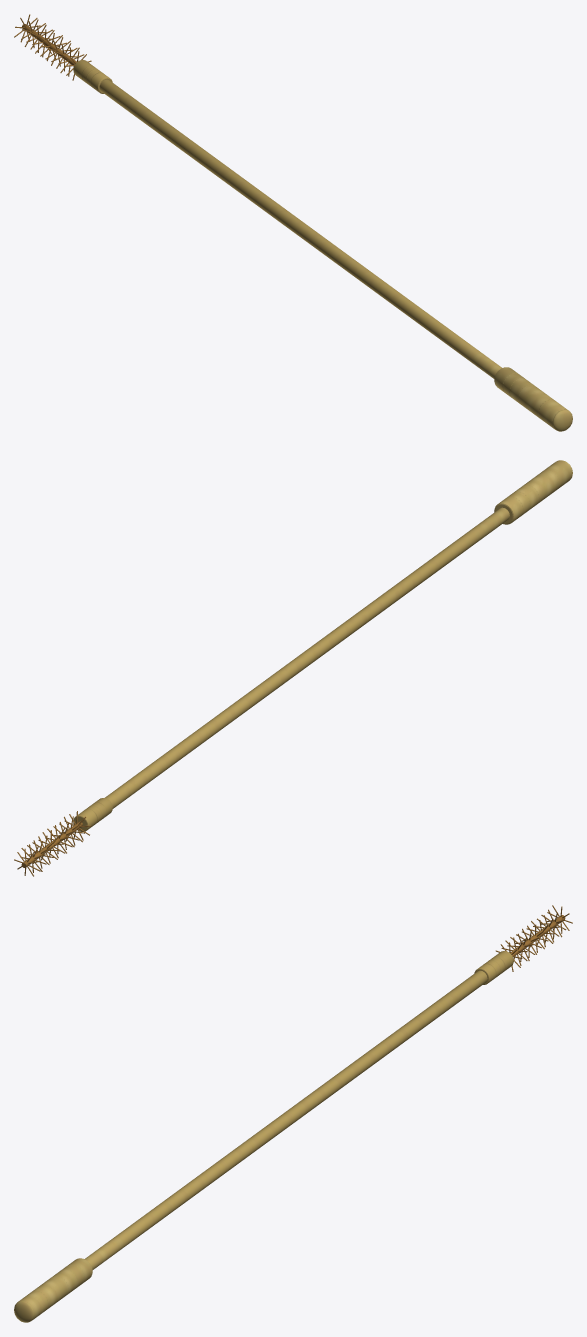
The model's file is rod.glb.
3 views of the same model, one above another, from view 1: azimuth 30°, elevation 25°; view 2: azimuth 150°, elevation 25°; view 3: azimuth 330°, elevation 25° (orthographic).
Visible parts, largest first — view 1: GEO-rod-Tool_Brass, GEO-rod-Tool_Bronze; view 2: GEO-rod-Tool_Brass, GEO-rod-Tool_Bronze; view 3: GEO-rod-Tool_Brass, GEO-rod-Tool_Bronze.
Boxes of the visible parts, x1,y1,x2,y2 form: GEO-rod-Tool_Brass: (73, 60, 572, 431); GEO-rod-Tool_Bronze: (14, 14, 91, 80); GEO-rod-Tool_Brass: (73, 460, 572, 831); GEO-rod-Tool_Bronze: (14, 811, 91, 876); GEO-rod-Tool_Brass: (14, 951, 513, 1322); GEO-rod-Tool_Bronze: (495, 905, 572, 971).
Bounding box in the file's own units: 0.0072 × 0.00714 × 0.239.
Materials: 2 (2 with a texture image).
